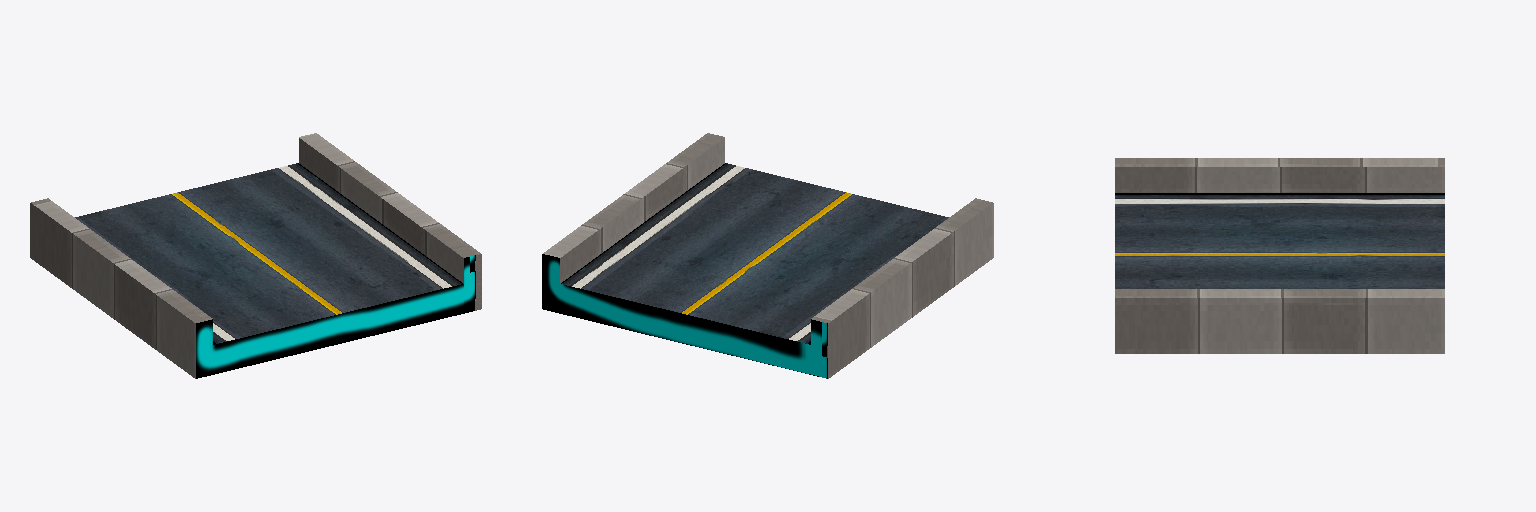
3 views of the same model, side by side, from view 1: azimuth 30°, elevation 25°; view 2: azimuth 150°, elevation 25°; view 3: azimuth 270°, elevation 25° (orthographic).
Parts seen in each view (by area): view 1: Cube.002; view 2: Cube.002; view 3: Cube.002.
Boxes of the visible parts, x1,y1,x2,y2 form: Cube.002: [30, 133, 481, 378]; Cube.002: [542, 133, 993, 378]; Cube.002: [1115, 158, 1444, 353].
Size of the model in its own units: 1.41 by 0.2613 by 1.41.
1 materials, 1 textured.